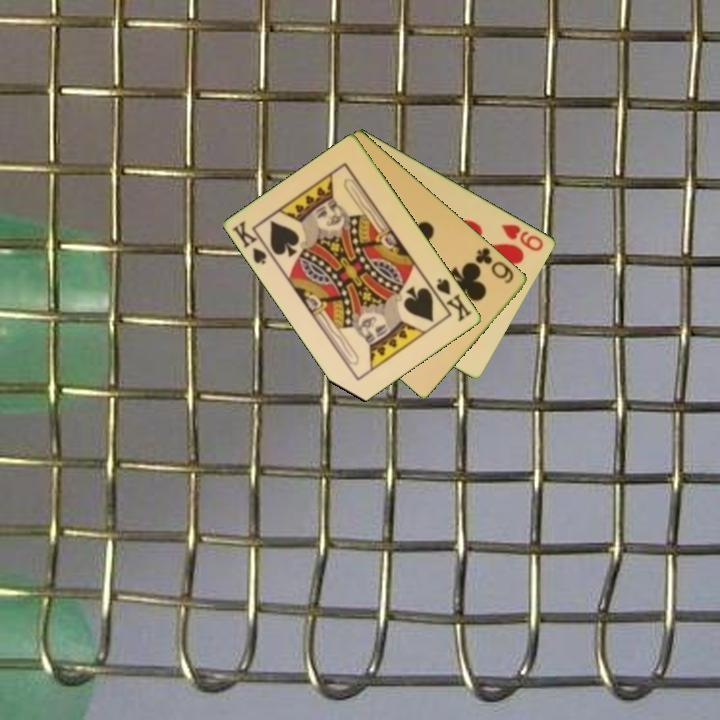6c: (472, 244, 517, 287)
9h: (498, 220, 547, 254)
Ks: (229, 217, 277, 267), (428, 275, 475, 325)
